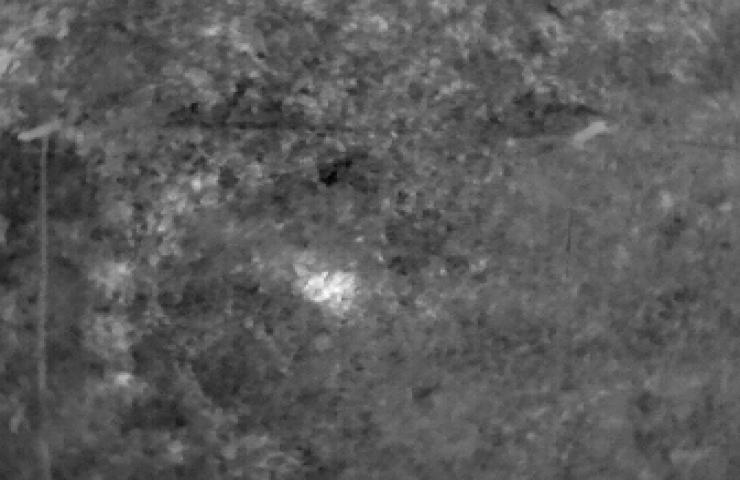landmines: (299, 270, 356, 310)
